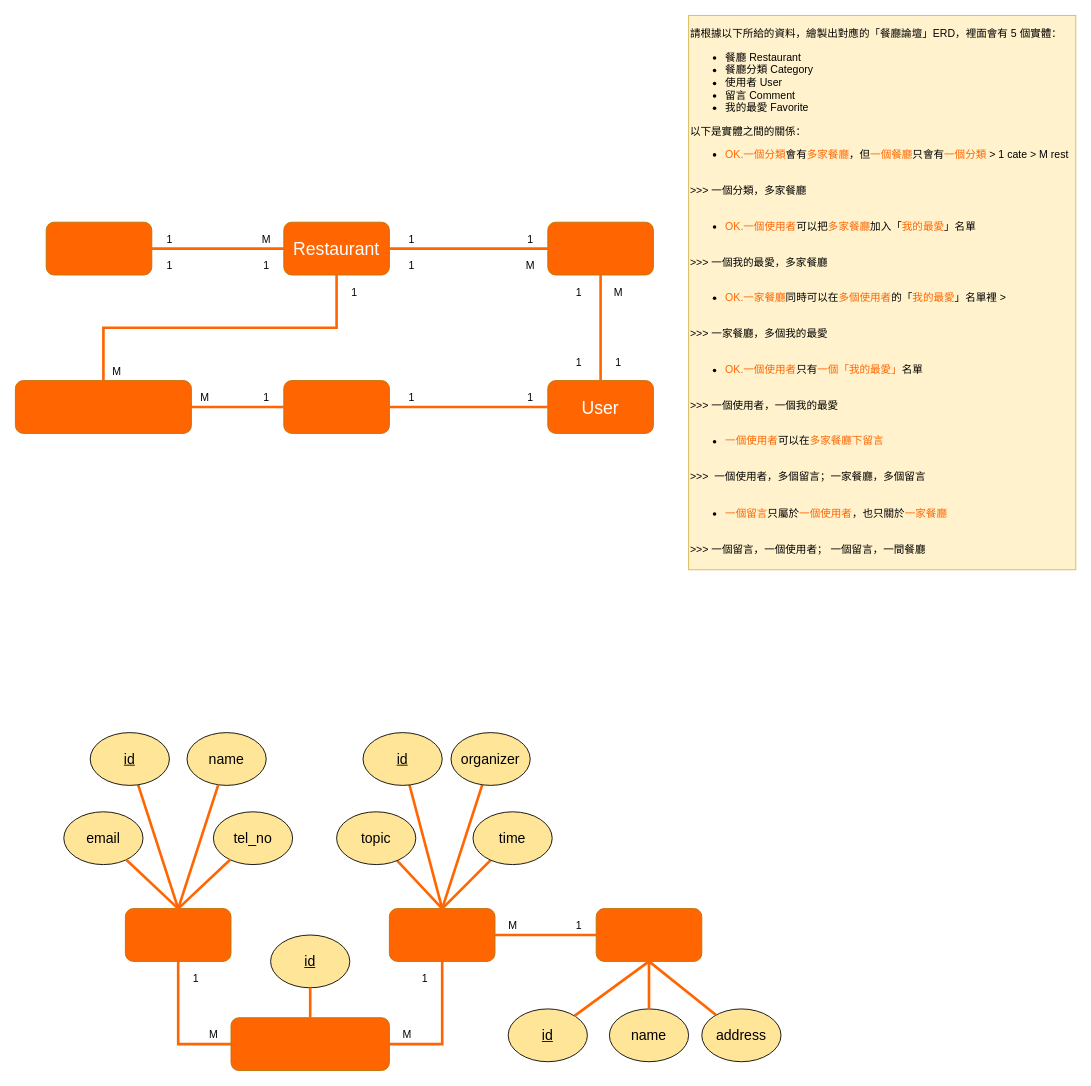
The diagram is 1091 pixels wide and 1086 high, and some of its shapes have lost their labels. The centre of each missing label's shape, as x and y in pixels:
Category: (x=98, y=248)
Comment: (x=600, y=248)
Event: (x=442, y=934)
Favorite: (x=336, y=406)
FavoriteRestaurant: (x=103, y=406)
Participant: (x=178, y=934)
ParticipatedEvent: (x=309, y=1044)
Venue: (x=648, y=934)
